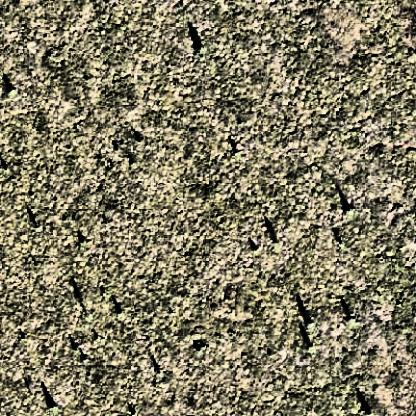tree-top: (3, 82, 19, 99), (195, 41, 211, 57), (341, 202, 357, 218), (303, 318, 316, 331)
